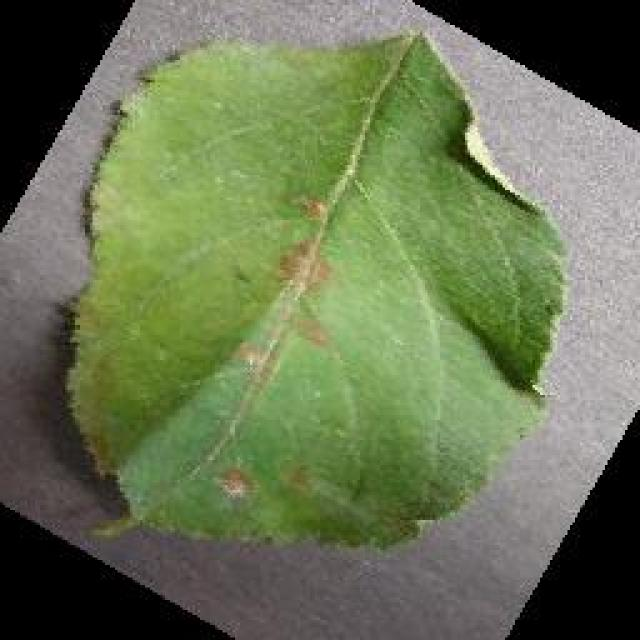apple rust disease: (60, 25, 568, 553)
